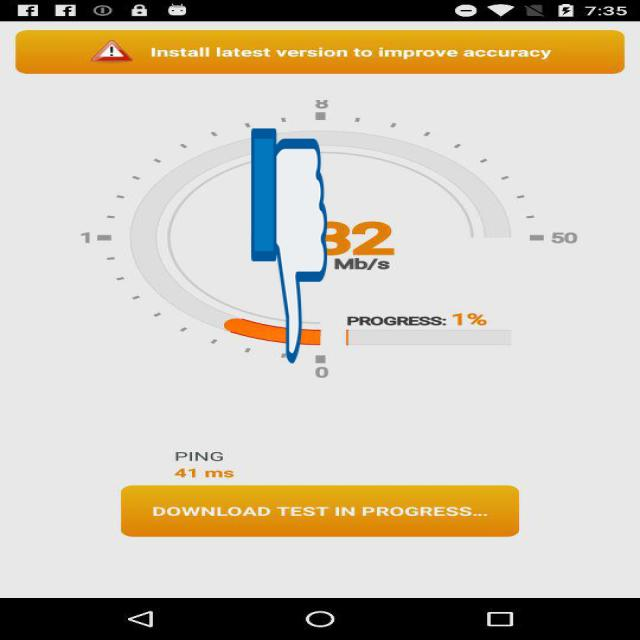obstruction: (251, 123, 327, 369)
